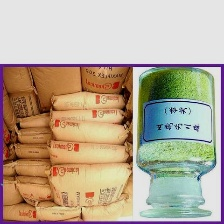insecticide: (136, 63, 217, 220)
